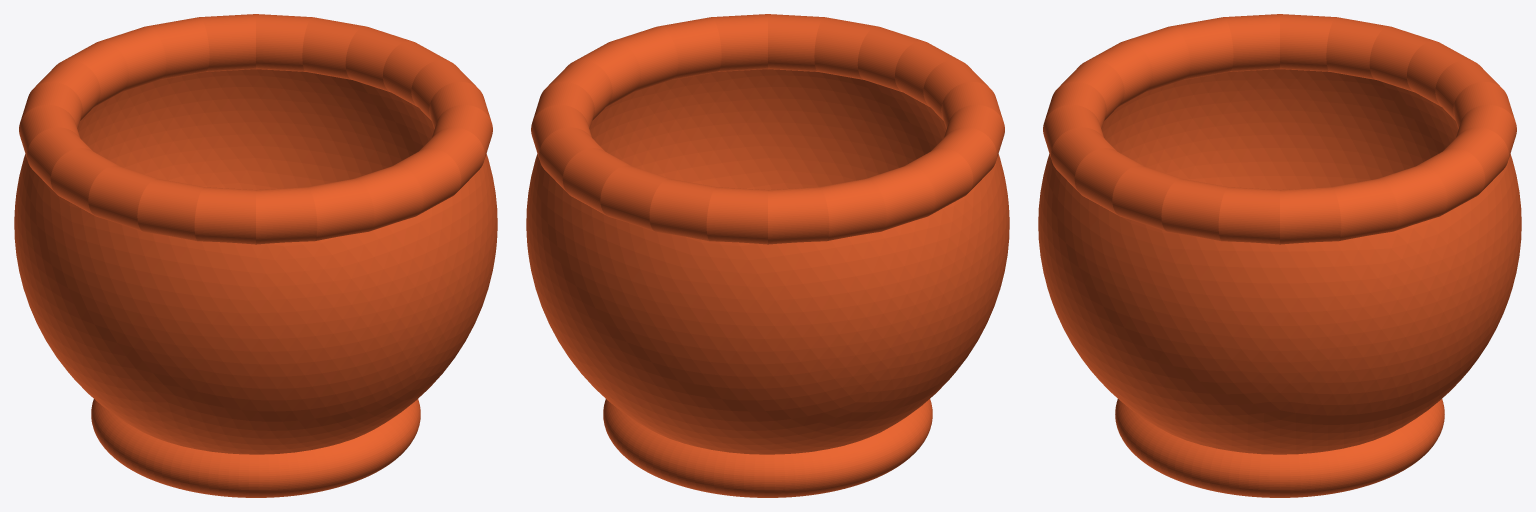
Rendered from pot.fbx.
3 views of the same model, side by side, from view 1: azimuth 30°, elevation 25°; view 2: azimuth 150°, elevation 25°; view 3: azimuth 270°, elevation 25° (orthographic).
Parts seen in each view (by area): view 1: Pot.001; view 2: Pot.001; view 3: Pot.001.
Part boxes in pixels (bbox=[...]): Pot.001: bbox=[14, 14, 497, 497]; Pot.001: bbox=[526, 14, 1009, 497]; Pot.001: bbox=[1038, 14, 1521, 497].
Size of the model in its own units: 3304 by 2500 by 3304.
